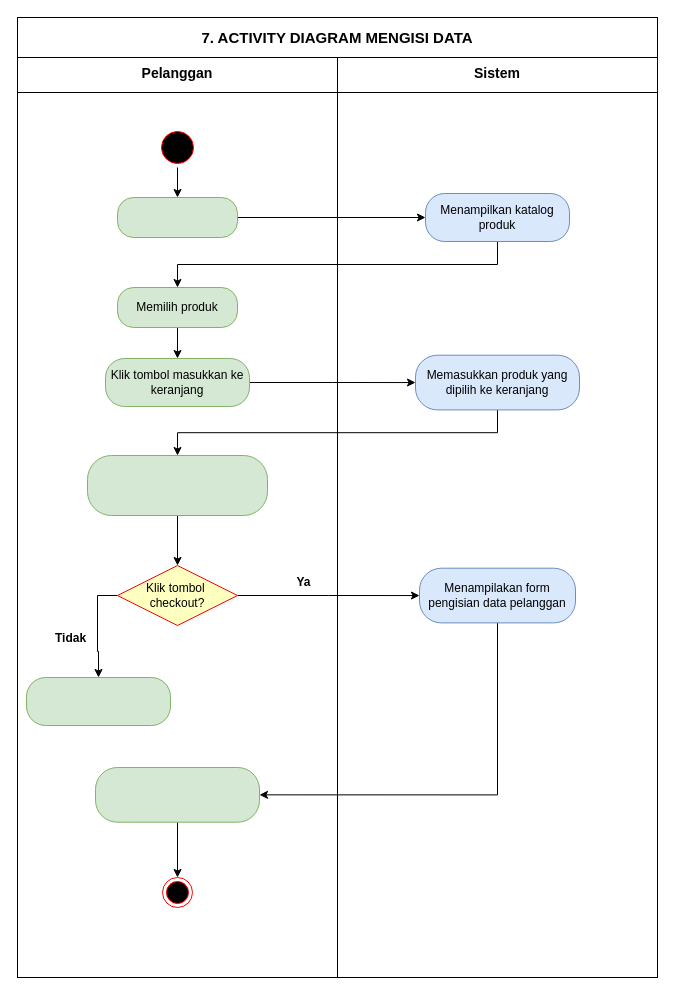
Some shapes in this 675 by 995 pixel diagram are drawn without their labels. Here are the shapes that lost their labels. From the top down, the centre of each, then its label:
At (x=177, y=217): "Buka website".
At (x=177, y=485): "Mengelola keranjang (menambah, mengurangi, atau mengubah pesanan)".
At (x=98, y=701): "Kembali ke halaman katalog produk".
At (x=177, y=794): "Mengisi nama, nomor whatsapp, alamat pelanggan".
